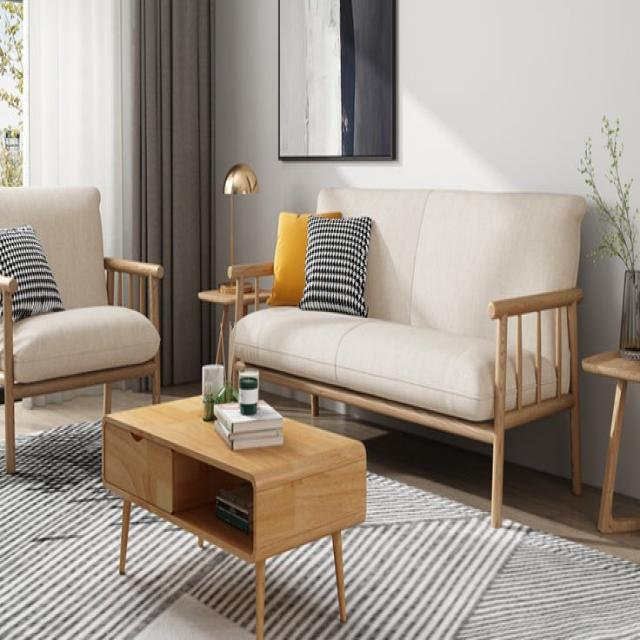sofa: (227, 184, 586, 529), (2, 178, 158, 482)
